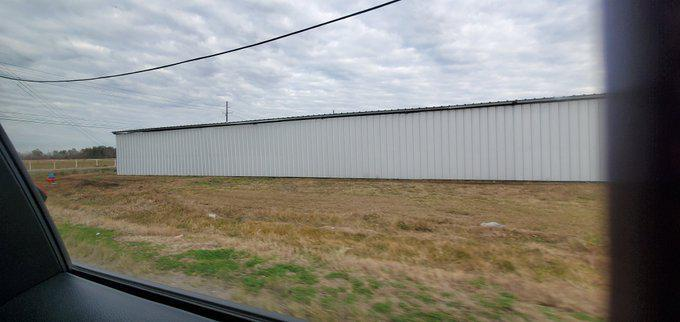affected: (102, 100, 655, 188)
